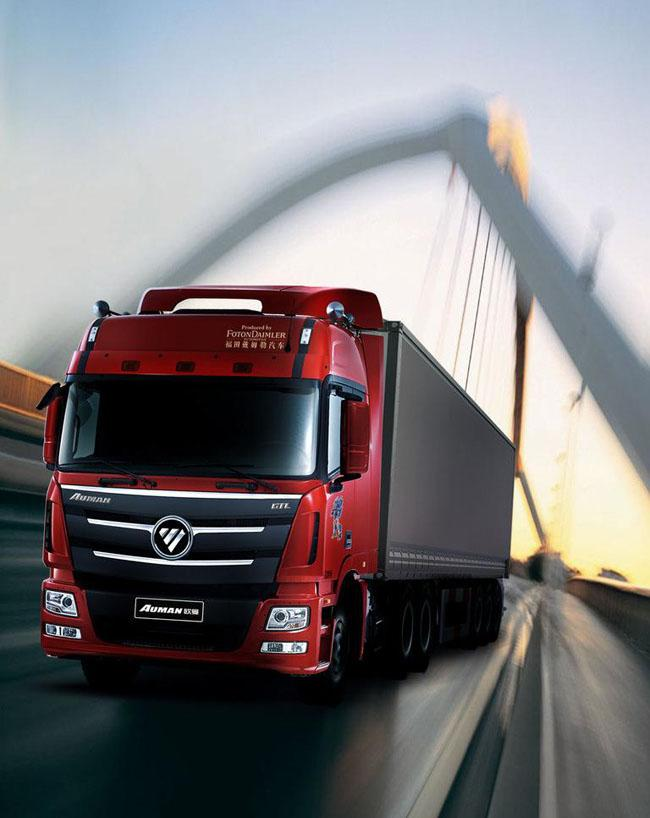truck: (29, 255, 521, 702)
